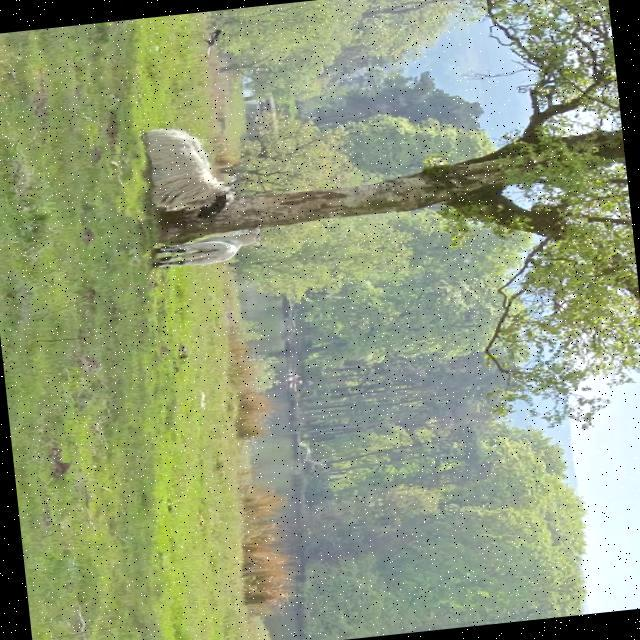sheep: (143, 128, 233, 214), (150, 226, 260, 265)
